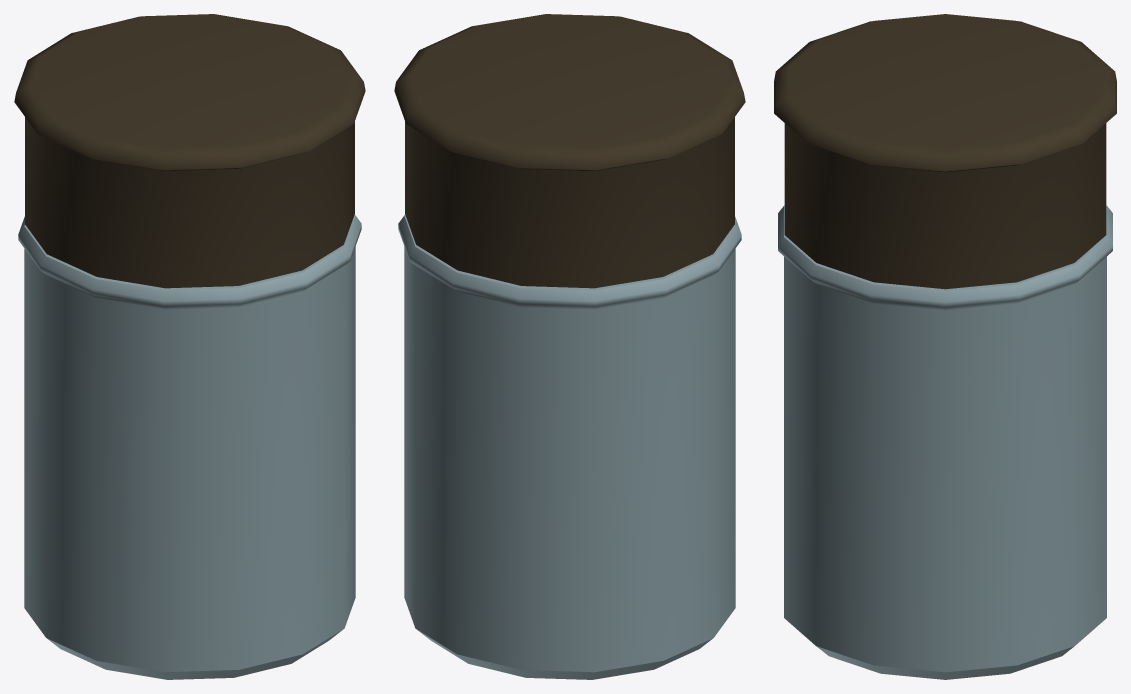
File: B2-4_GlassSeason.fbx
3 renders of one model, left to right at view 1: azimuth 30°, elevation 25°; view 2: azimuth 150°, elevation 25°; view 3: azimuth 270°, elevation 25°, orthographic.
Visible parts, largest first — view 1: GlassSeason; view 2: GlassSeason; view 3: GlassSeason.
Part boxes in pixels (x1,y1,x2,y2): GlassSeason: (14,14,365,679); GlassSeason: (394,14,745,679); GlassSeason: (774,14,1116,679).
Bounding box in the file's own units: 1.35 × 2.27 × 1.32.
